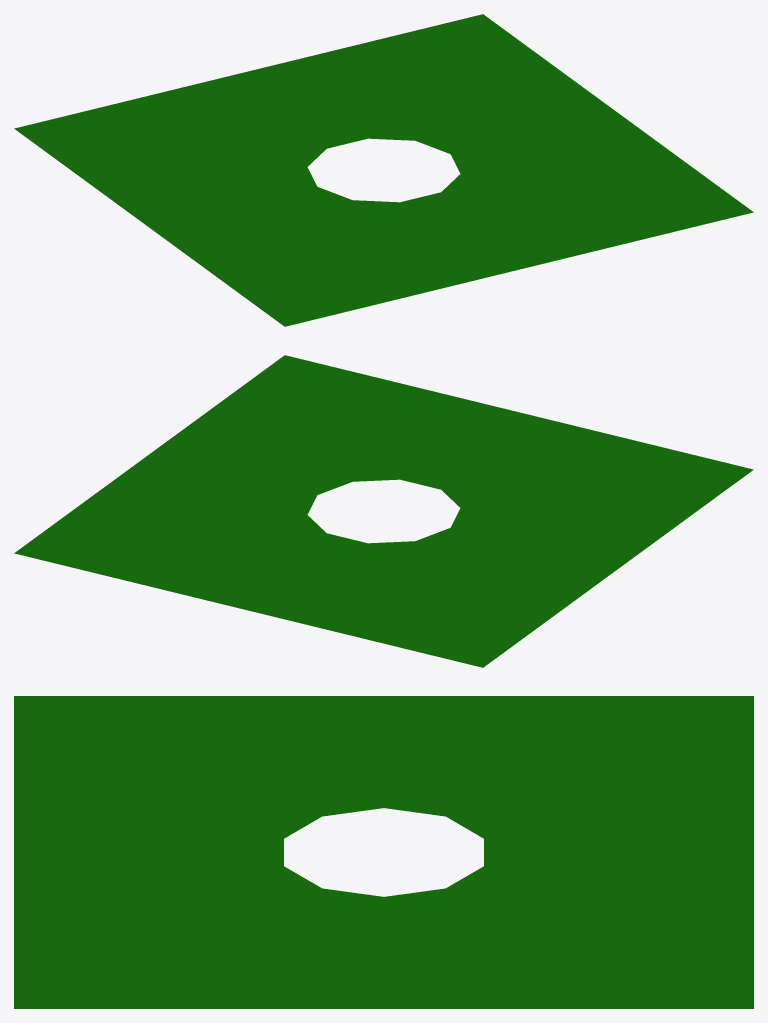
Rendered from victoryground.fbx.
3 renders of one model, top to bottom at view 1: azimuth 30°, elevation 25°; view 2: azimuth 150°, elevation 25°; view 3: azimuth 270°, elevation 25°, orthographic. The views are drawn at different scales.
Visible parts, largest first — view 1: pPlane2; view 2: pPlane2; view 3: pPlane2.
Boxes of the visible parts, bbox=[...] form: pPlane2: bbox=[14, 14, 753, 326]; pPlane2: bbox=[14, 355, 753, 667]; pPlane2: bbox=[14, 696, 753, 1008].
Bounding box in the file's own units: 141 × 0 × 141.
